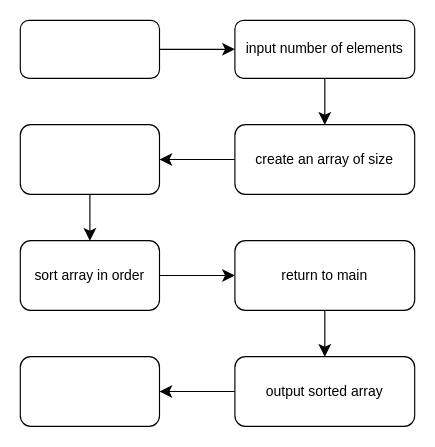
Some shapes in this 435 by 447 pixel diagram are drawn without their labels. Here are the shapes that lost their labels. From the top down, the centre of each, then its label:
[89,48]: Start
[89,159]: input array elements
[89,391]: run code
